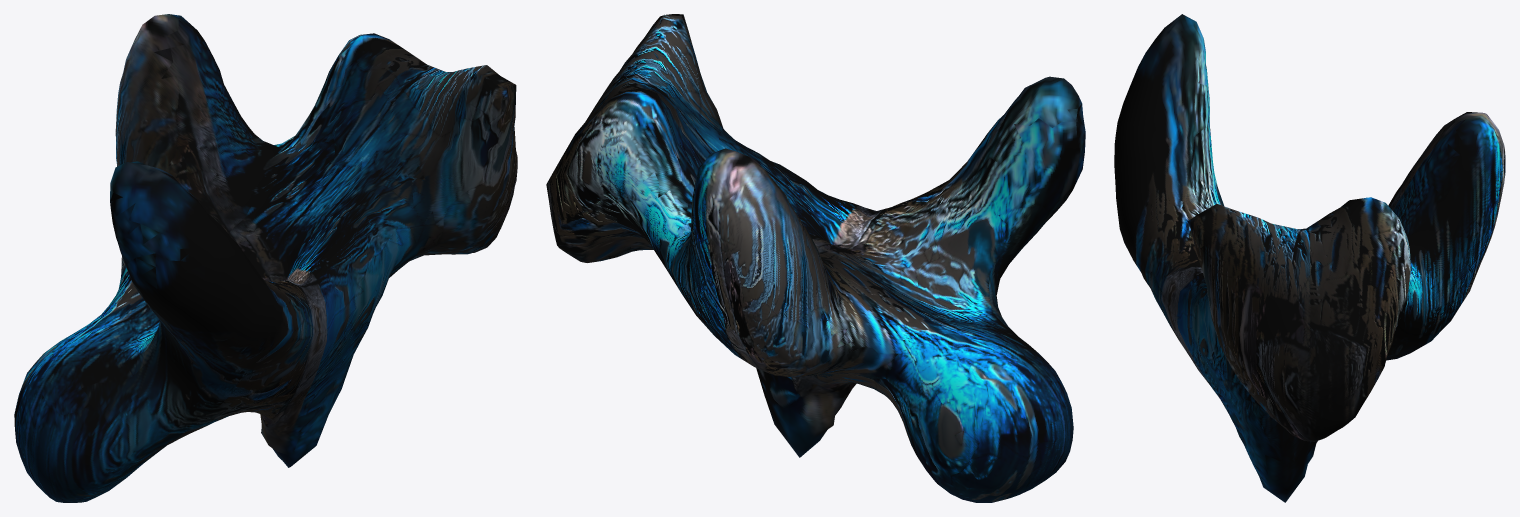
File: nnn.gltf
The picture shows the model from 3 angles, left to right: view 1: azimuth 30°, elevation 25°; view 2: azimuth 150°, elevation 25°; view 3: azimuth 270°, elevation 25°; orthographic projection. The views are drawn at different scales.
Parts seen in each view (by area): view 1: Cube.006; view 2: Cube.006; view 3: Cube.006.
Boxes of the visible parts, x1=… form: Cube.006: x1=14, y1=14, x2=517, y2=502; Cube.006: x1=546, y1=14, x2=1085, y2=502; Cube.006: x1=1114, y1=14, x2=1505, y2=502.
Bounding box in the file's own units: 3.12 × 2.38 × 2.18.
1 material, 1 textured.
